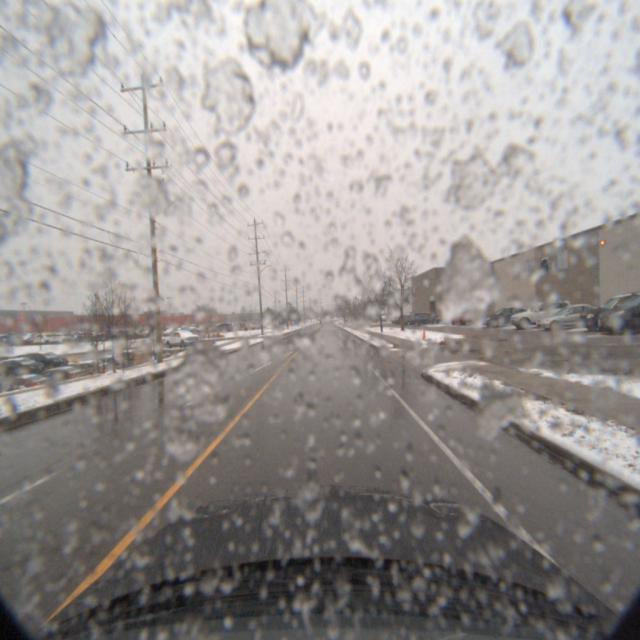Car: (528, 300, 612, 331), (502, 298, 574, 329), (474, 306, 530, 328), (445, 308, 477, 326), (407, 313, 439, 326)
Truck: (161, 328, 201, 351)
